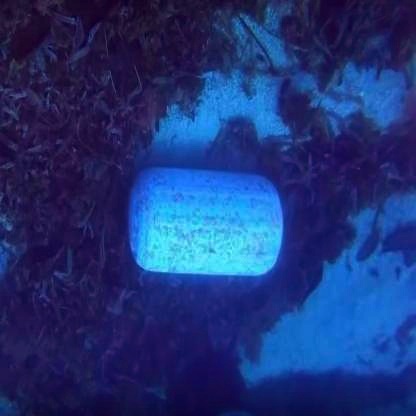can: (106, 134, 294, 304)
